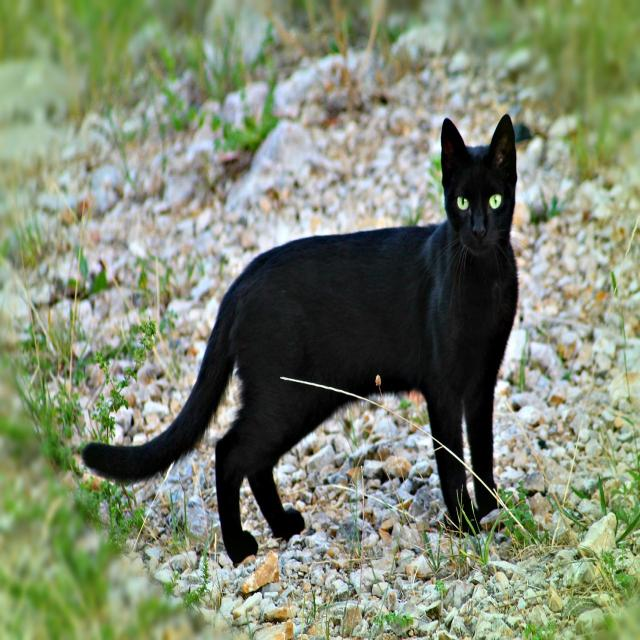cat: (82, 112, 520, 564)
